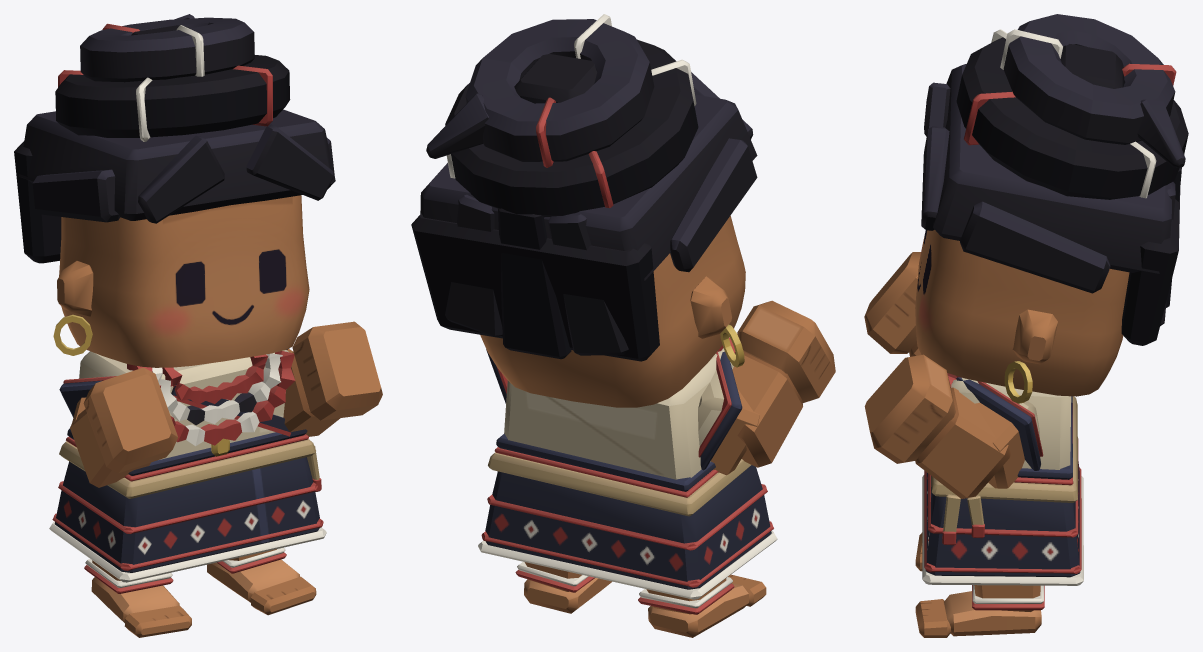
File: audience_v2_woman_clap.glb
The picture shows the model from 3 angles, left to right: view 1: azimuth 30°, elevation 25°; view 2: azimuth 150°, elevation 25°; view 3: azimuth 270°, elevation 25°; orthographic projection. The views are drawn at different scales.
Parts seen in each view (by area): view 1: audience_v2_woman_clap; view 2: audience_v2_woman_clap; view 3: audience_v2_woman_clap.
Boxes of the visible parts, left/top/right/bottom form: audience_v2_woman_clap: left=14, top=14, right=382, bottom=637; audience_v2_woman_clap: left=411, top=14, right=835, bottom=637; audience_v2_woman_clap: left=864, top=14, right=1188, bottom=637.
Bounding box in the file's own units: 0.4257 × 0.8215 × 0.4197.
1 material, 1 textured.
